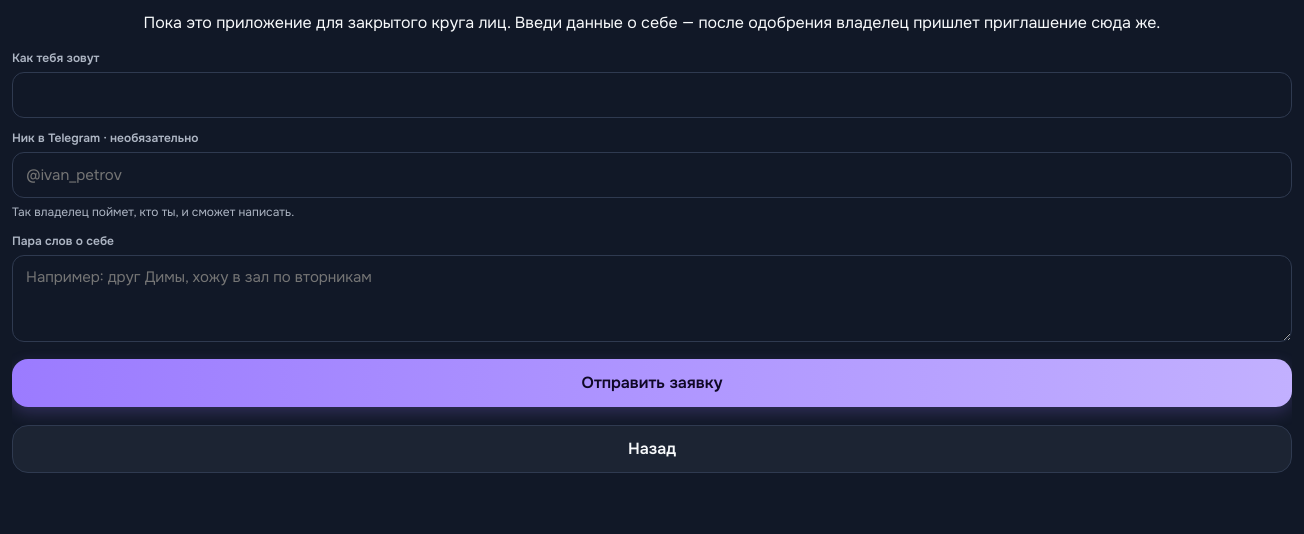
Test case: JoinRequestForm › ошибки сервера — понятный текст, форму можно отправить снова
This screenshot has width=1304, height=534.
Type "Петя" into the field labelled "Как тебя зовут" at (652, 95), box [12,72,1292,118]
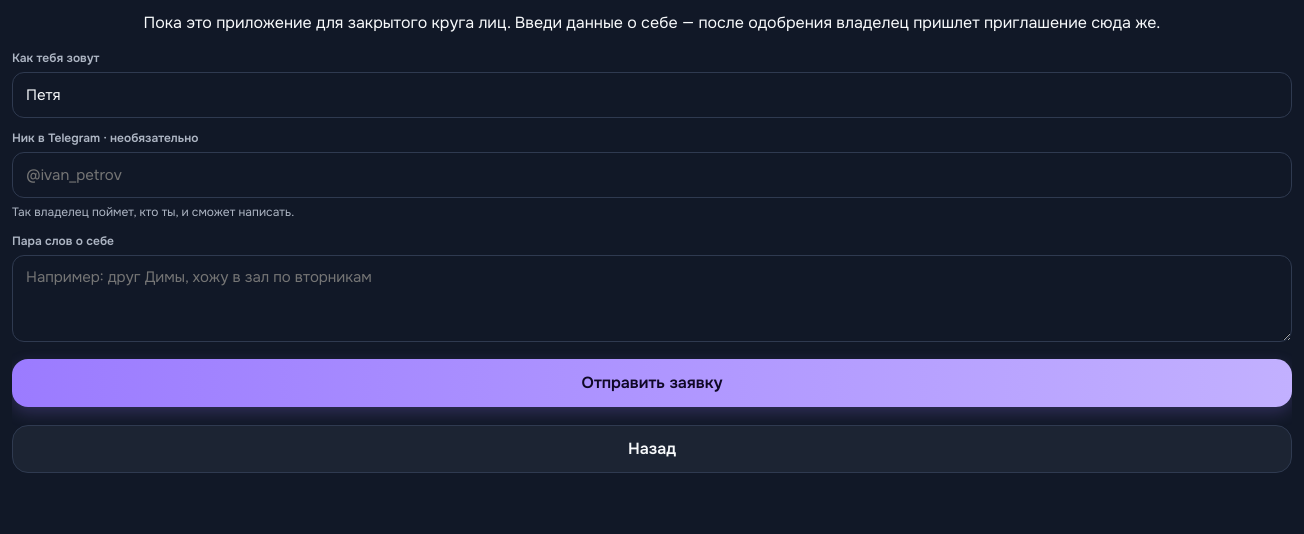
Click the button "Отправить заявку" at (652, 383), box [12,359,1292,407]
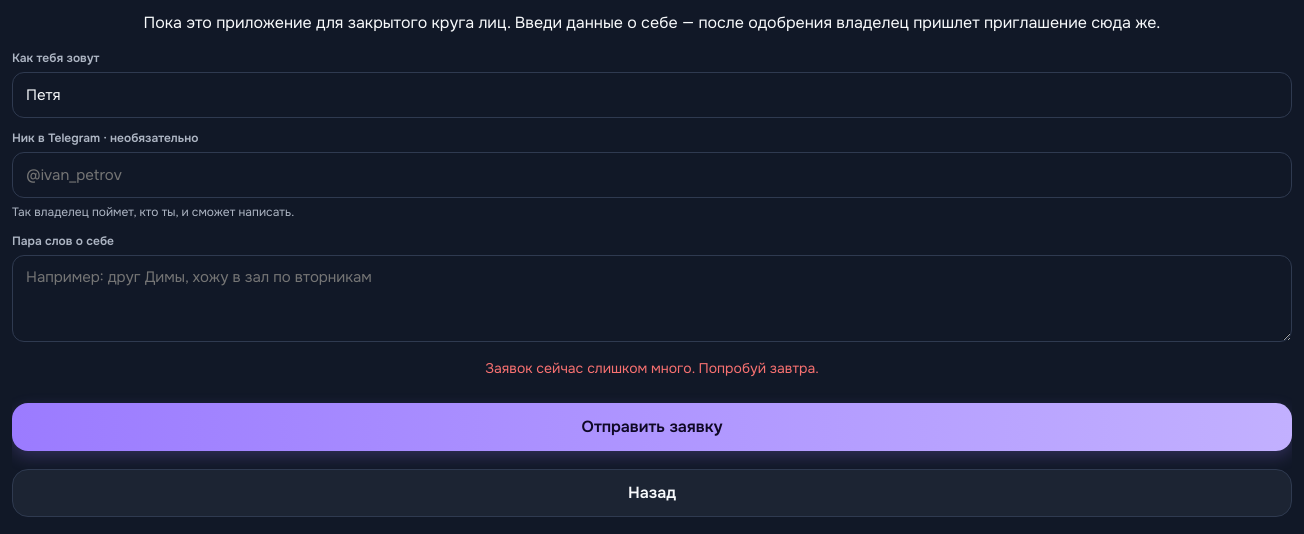
Result: the message shows "Попробуй завтра" at [485,359,819,377]
Click the button "Отправить заявку" at (652, 427), box [12,403,1292,451]
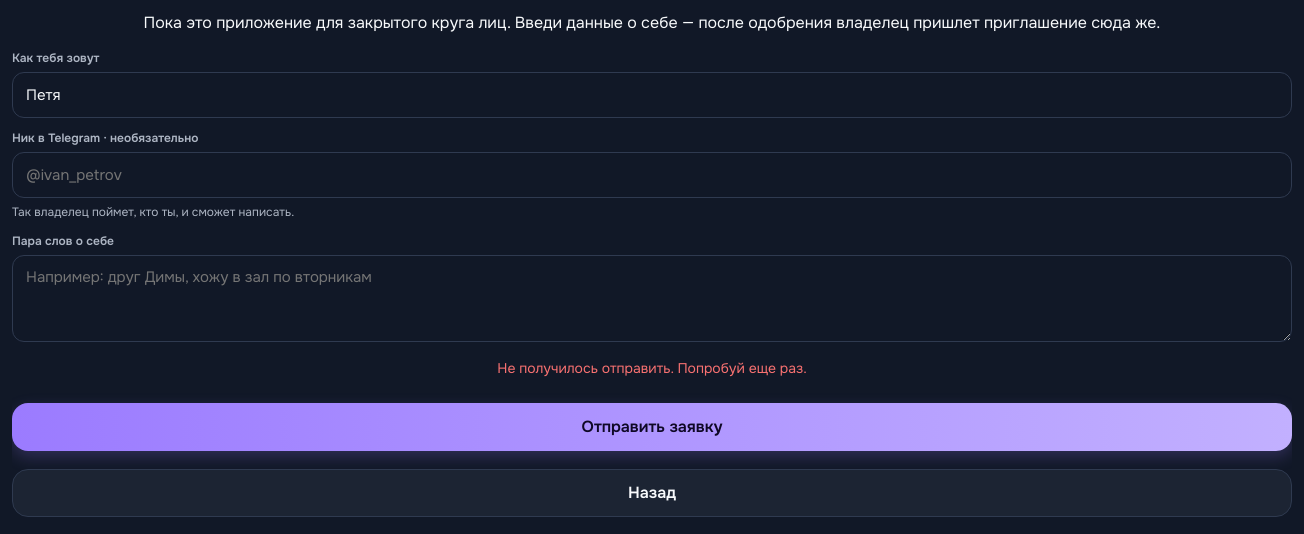
Result: the message shows "Не получилось отправить" at [497,359,807,377]
Replace the text in the field labelled "Как тебя зовут" with "Петя!" at (652, 95), box [12,72,1292,118]
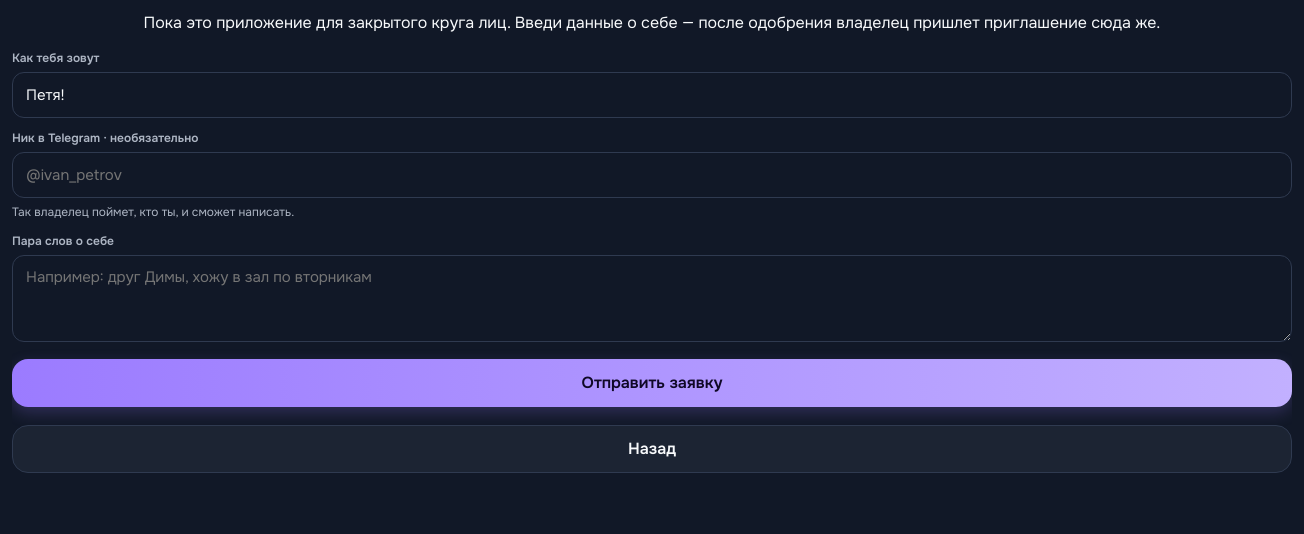
Result: the message "Не получилось отправить. Попробуй еще раз." is gone
